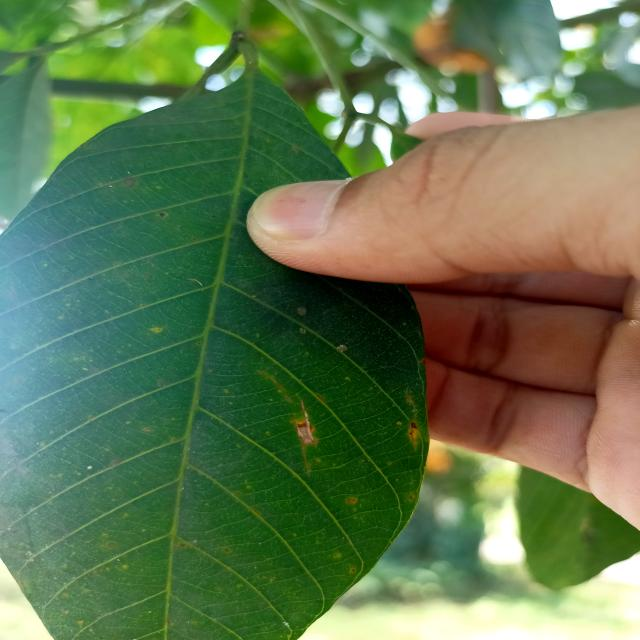Colletotrichum: (122, 178, 136, 187), (159, 212, 166, 218), (193, 238, 197, 240)
Leaf-Blight: (295, 400, 313, 444)
